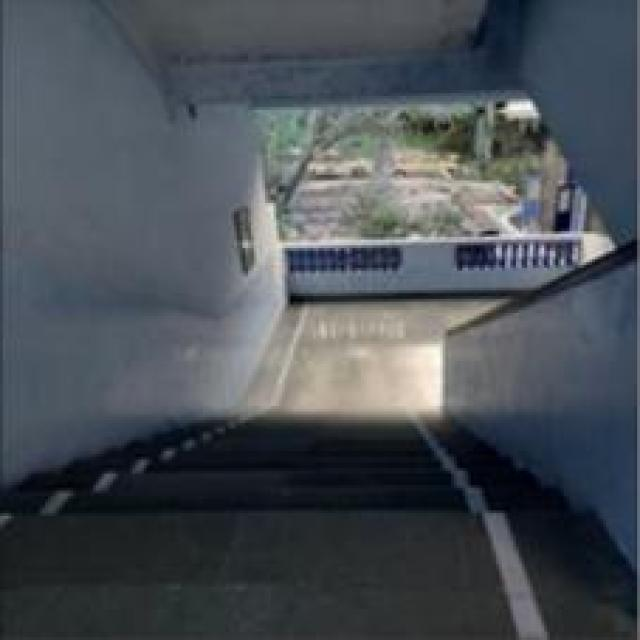stairs: (0, 408, 634, 637)
